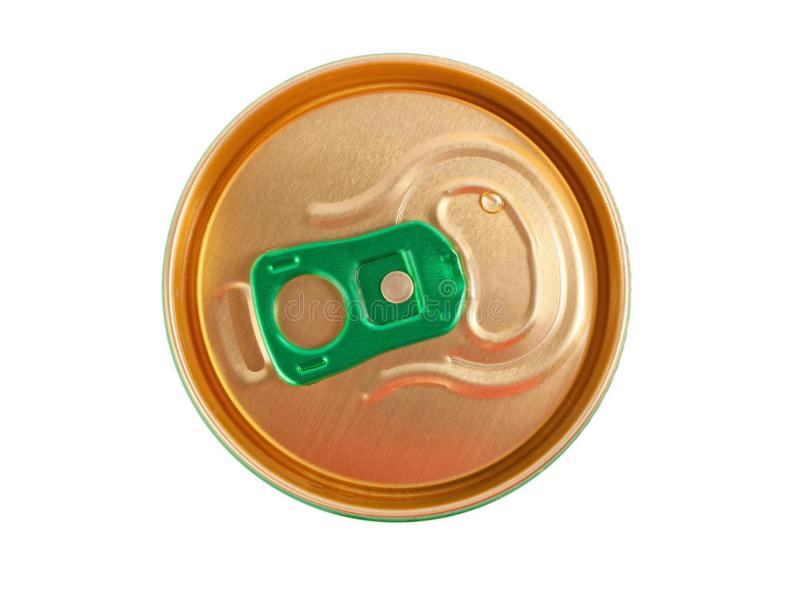can: (151, 42, 641, 528)
